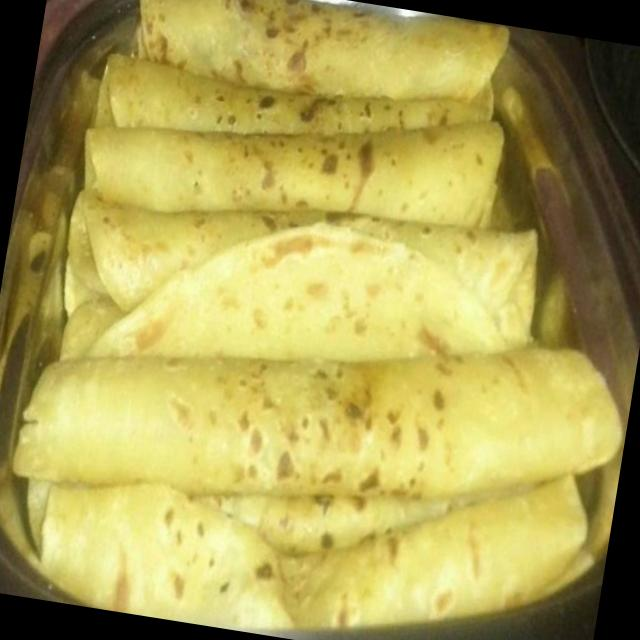roti: (0, 0, 630, 628)
